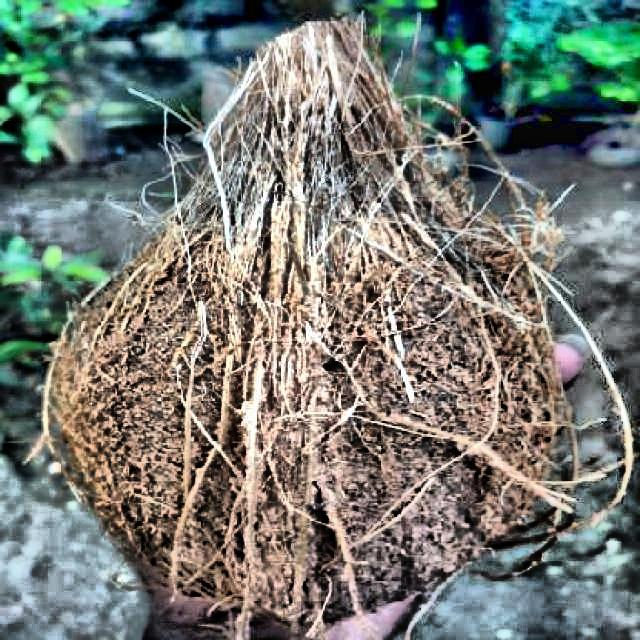good: (60, 19, 567, 613)
